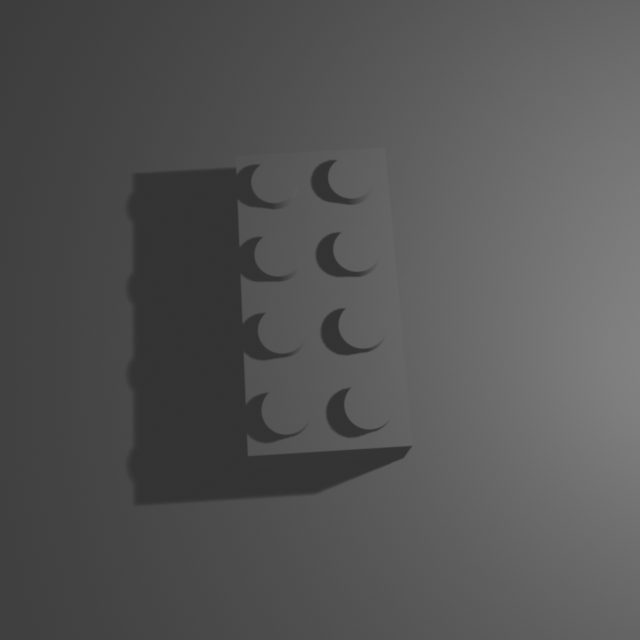lego_2x4: (234, 140, 414, 468)
